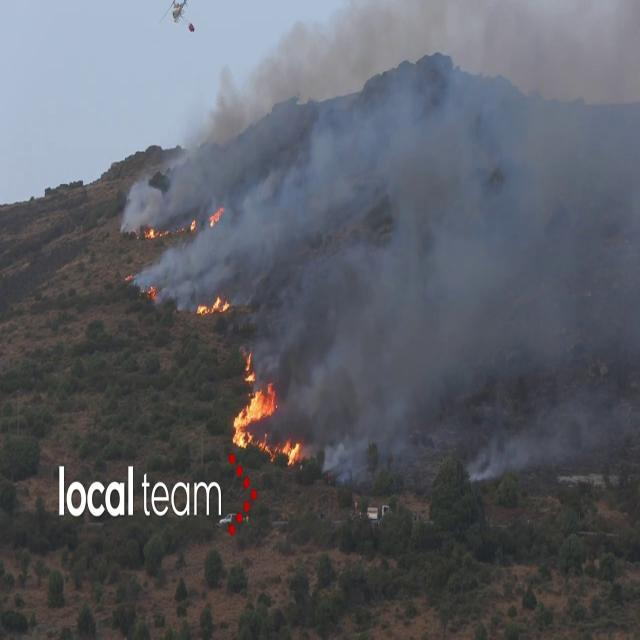Fire: (226, 365, 277, 458), (192, 285, 232, 320), (276, 431, 306, 468)
Smoke: (158, 1, 640, 486)
